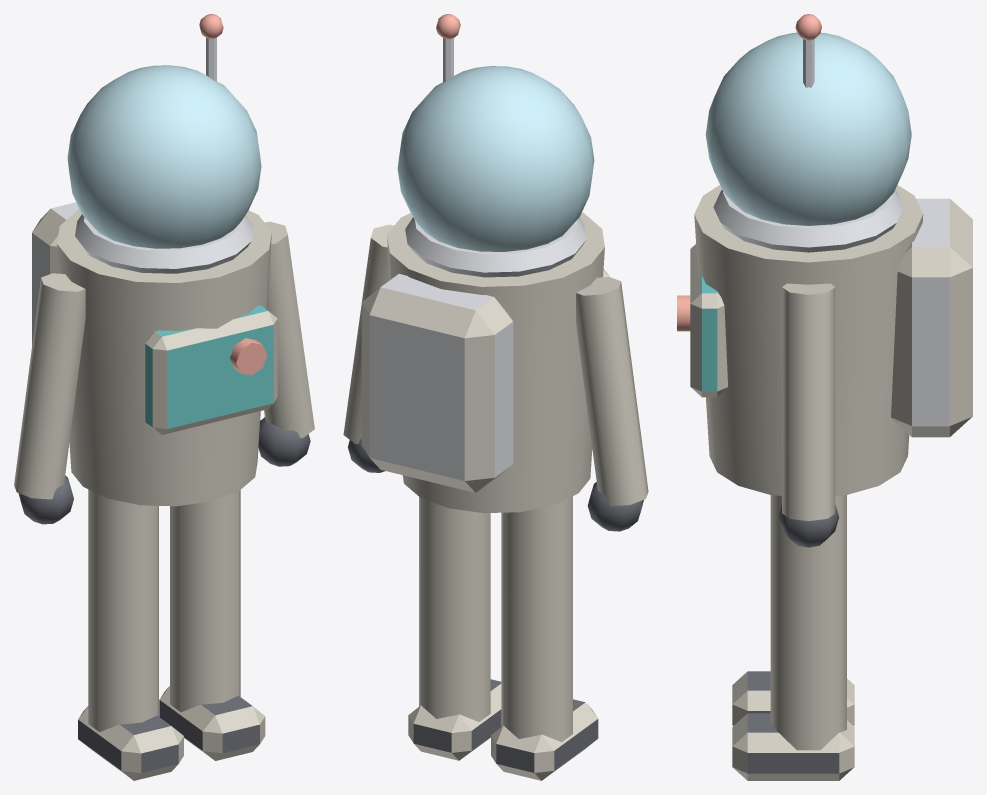
Rendered from ic_avatar.glb.
3 views of the same model, side by side, from view 1: azimuth 30°, elevation 25°; view 2: azimuth 150°, elevation 25°; view 3: azimuth 270°, elevation 25° (orthographic). The views are drawn at different scales.
Visible parts, largest first — view 1: ic_avatar; view 2: ic_avatar; view 3: ic_avatar.
Part boxes in pixels (x1=…): ic_avatar: x1=14, y1=14, x2=314, y2=780; ic_avatar: x1=343, y1=14, x2=648, y2=780; ic_avatar: x1=677, y1=14, x2=972, y2=780.
Size of the model in its own units: 0.9449 by 2.2 by 0.775.
